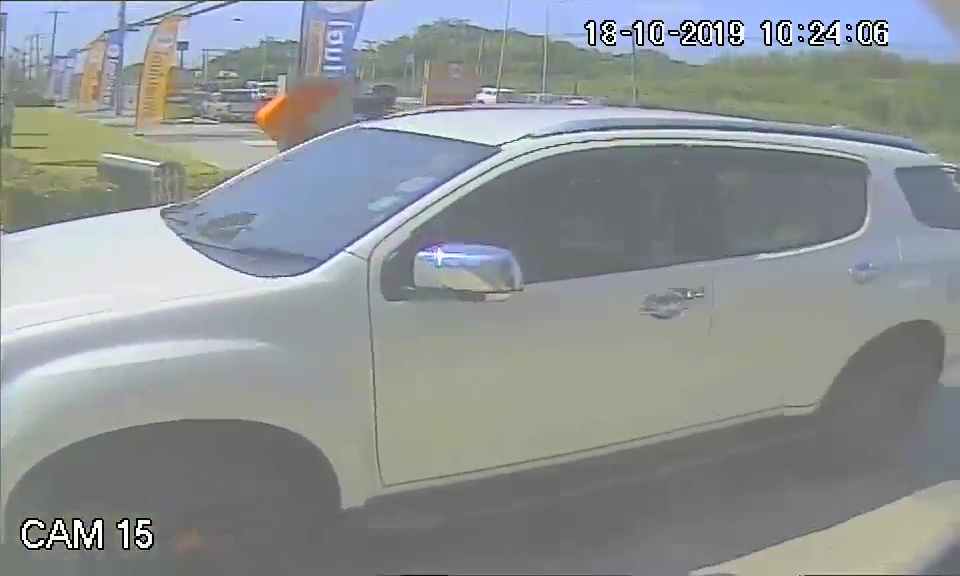pickup: (7, 98, 957, 533)
